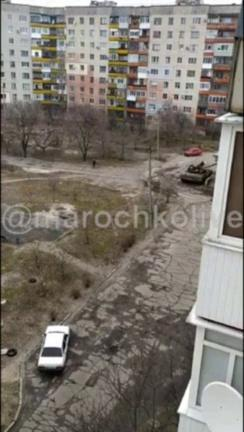car: (37, 325, 71, 373)
tank: (180, 162, 218, 182)
